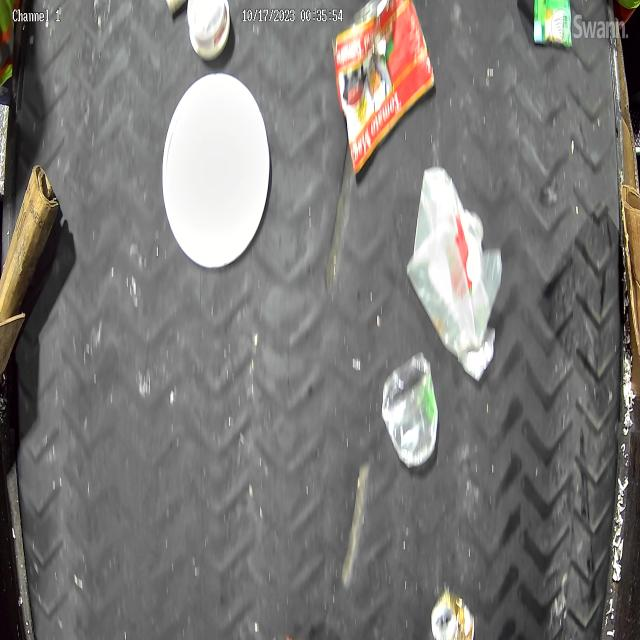can: (333, 0, 434, 176), (431, 587, 478, 640), (456, 326, 495, 383)
non_white_jug: (532, 0, 572, 51)
